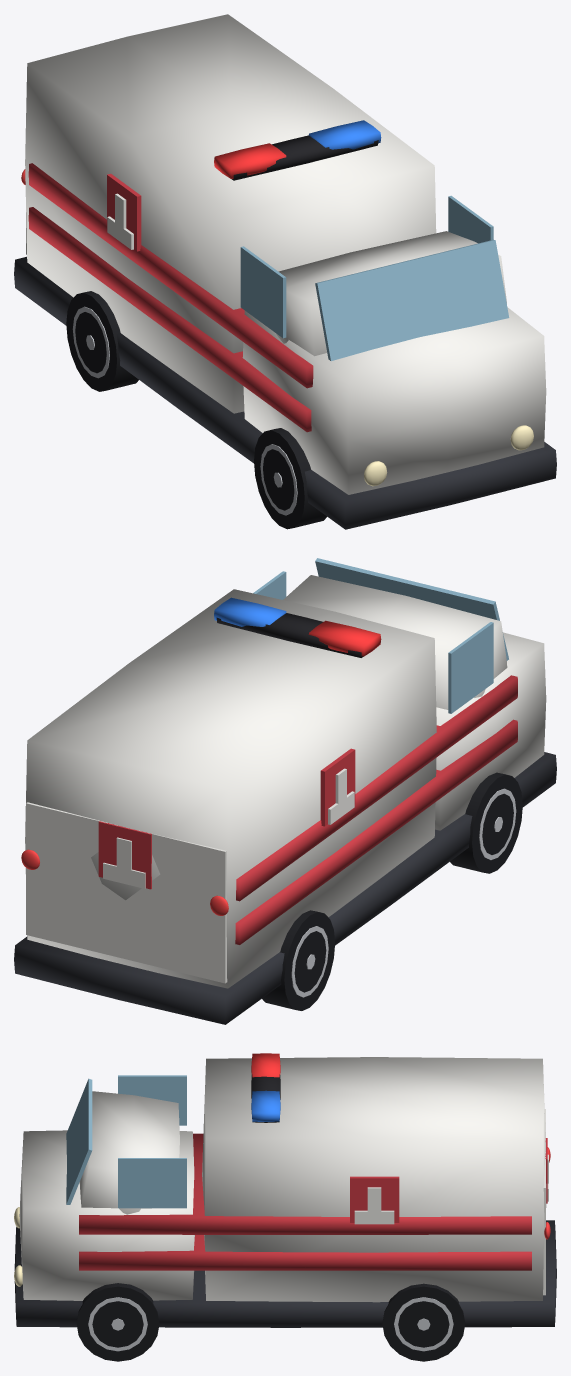
The model's file is ambulance.glb.
3 renders of one model, top to bottom at view 1: azimuth 30°, elevation 25°; view 2: azimuth 150°, elevation 25°; view 3: azimuth 270°, elevation 25°, orthographic. The views are drawn at different scales.
Visible parts, largest first — view 1: root; view 2: root; view 3: root.
Boxes of the visible parts, bbox=[...] form: root: bbox=[14, 14, 556, 529]; root: bbox=[14, 558, 556, 1024]; root: bbox=[14, 1053, 556, 1361].
Size of the model in its own units: 2.13 by 2.64 by 5.51.
